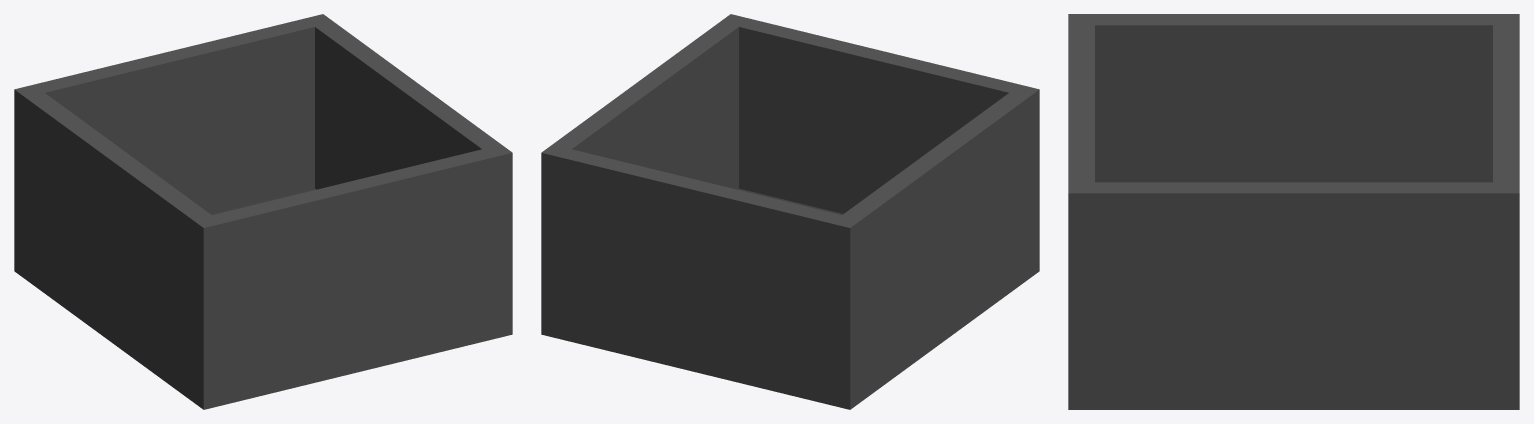
The model's file is chestopen.obj.
3 renders of one model, left to right at view 1: azimuth 30°, elevation 25°; view 2: azimuth 150°, elevation 25°; view 3: azimuth 270°, elevation 25°, orthographic. The views are drawn at different scales.
Size of the model in its own units: 1.6 by 0.9 by 1.7.
1 material, 1 textured.
